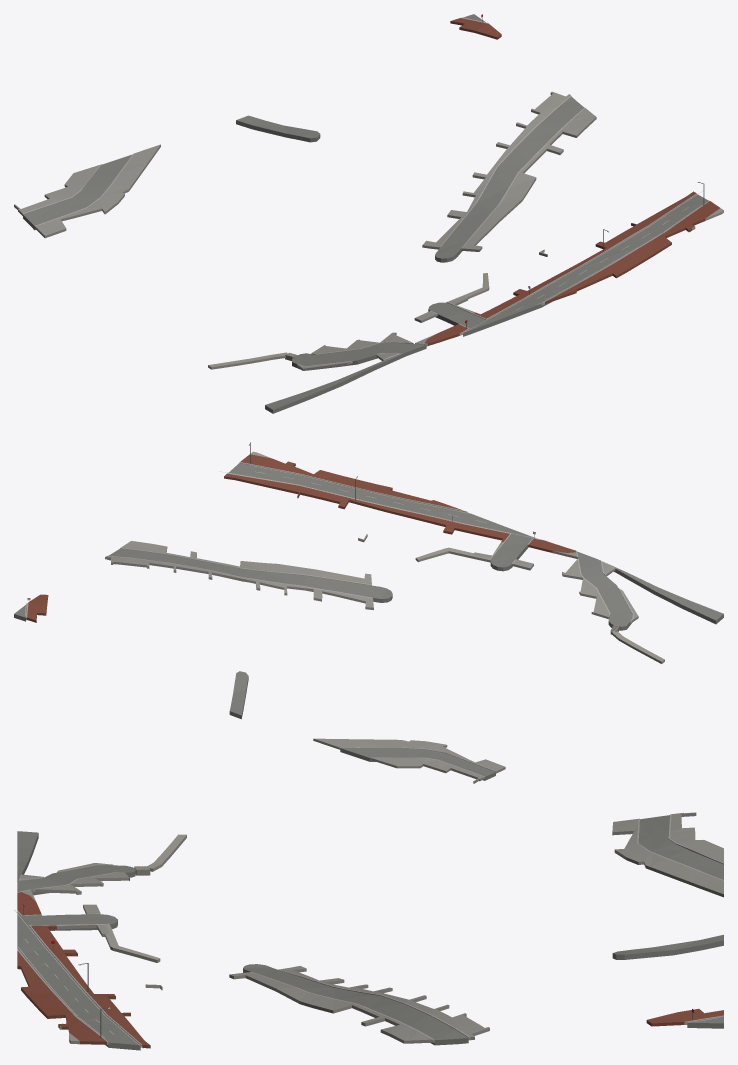
3 renders of one model, top to bottom at view 1: azimuth 30°, elevation 25°; view 2: azimuth 150°, elevation 25°; view 3: azimuth 270°, elevation 25°, orthographic. The views are drawn at different scales.
Size of the model in its own units: 149 by 28.81 by 146.
